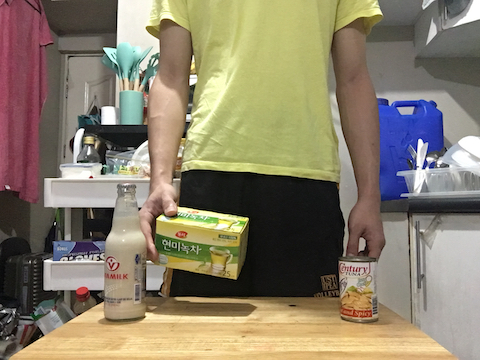bottle: (100, 180, 152, 325)
box: (154, 205, 252, 280)
can: (336, 254, 380, 324)
grab: (140, 181, 179, 266)
